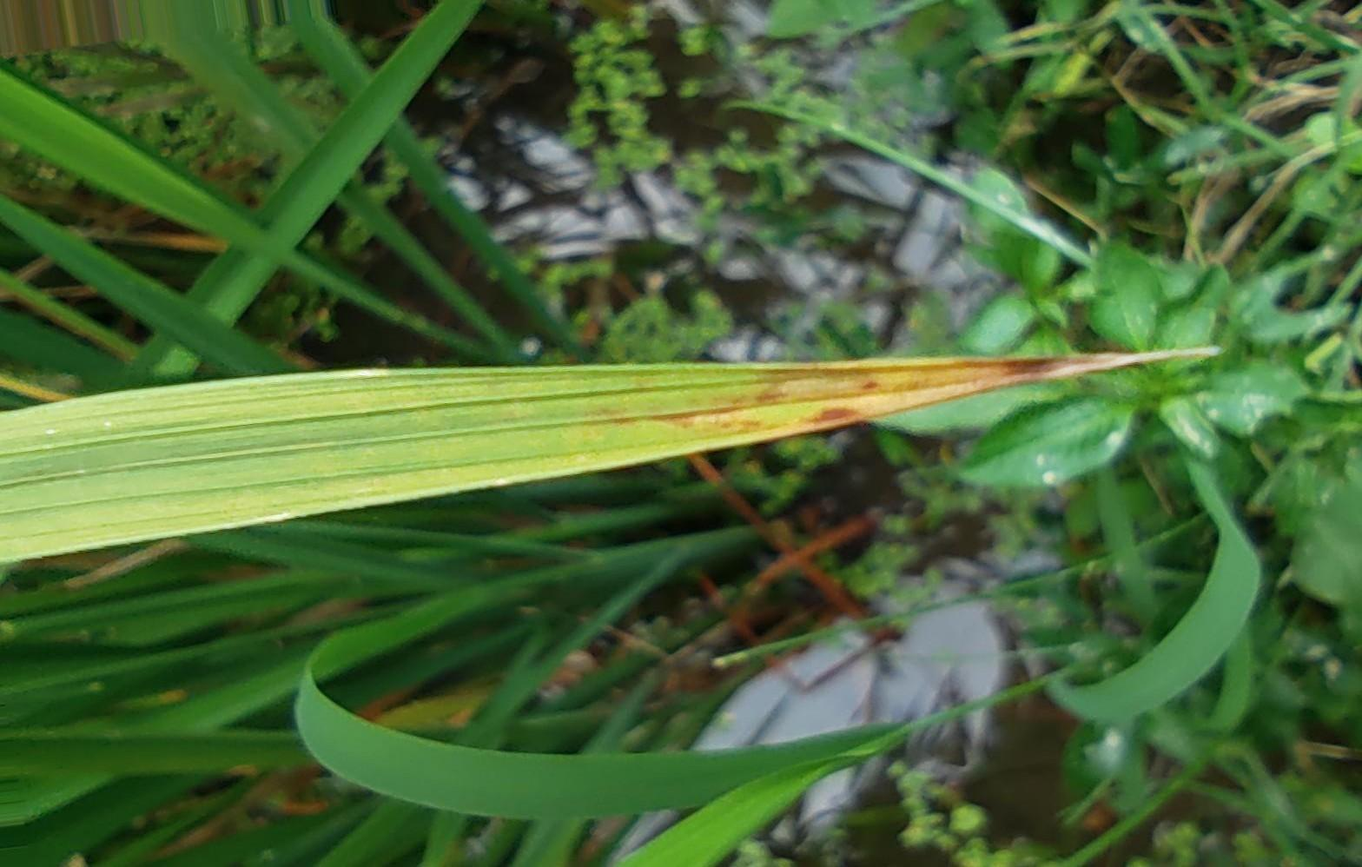LEAF: (0, 346, 1222, 564)
NBS: (814, 407, 859, 421), (863, 381, 880, 390)
